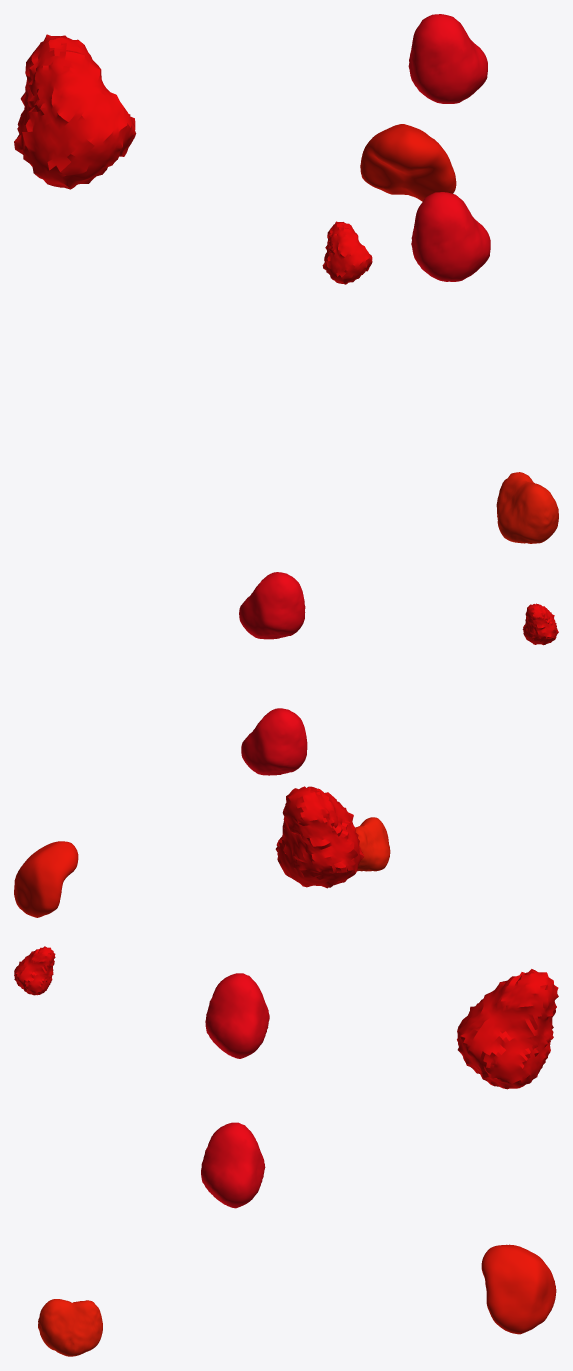
Rendered from blood_effect.glb.
The picture shows the model from 3 angles, top to bottom: view 1: azimuth 30°, elevation 25°; view 2: azimuth 150°, elevation 25°; view 3: azimuth 270°, elevation 25°; orthographic projection. The views are drawn at different scales.
Visible parts, largest first — view 1: rock.001_22, rock.004_25, rock.003_24, rock.002_23, rock_21, rock.005_26; view 2: rock.001_22, rock.004_25, rock.003_24, rock.002_23, rock_21, rock.005_26; view 3: rock.001_22, rock.002_23, rock.004_25, rock.003_24, rock_21, rock.005_26.
Boxes of the visible parts, x1,y1,x2,y2 form: rock.001_22: [14, 34, 136, 189]; rock.004_25: [411, 192, 490, 281]; rock.003_24: [408, 14, 487, 103]; rock.002_23: [360, 124, 456, 201]; rock_21: [496, 472, 558, 543]; rock.005_26: [322, 221, 372, 284]; rock.001_22: [275, 786, 364, 888]; rock.004_25: [241, 708, 307, 775]; rock.003_24: [239, 572, 305, 639]; rock.002_23: [14, 841, 78, 917]; rock_21: [355, 817, 390, 871]; rock.005_26: [522, 603, 558, 645]; rock.001_22: [457, 969, 558, 1089]; rock.002_23: [481, 1244, 556, 1334]; rock.004_25: [201, 1122, 265, 1208]; rock.003_24: [205, 973, 269, 1058]; rock_21: [38, 1299, 102, 1356]; rock.005_26: [14, 946, 55, 995].
Size of the model in its own units: 0.879 by 0.8755 by 1.14.
